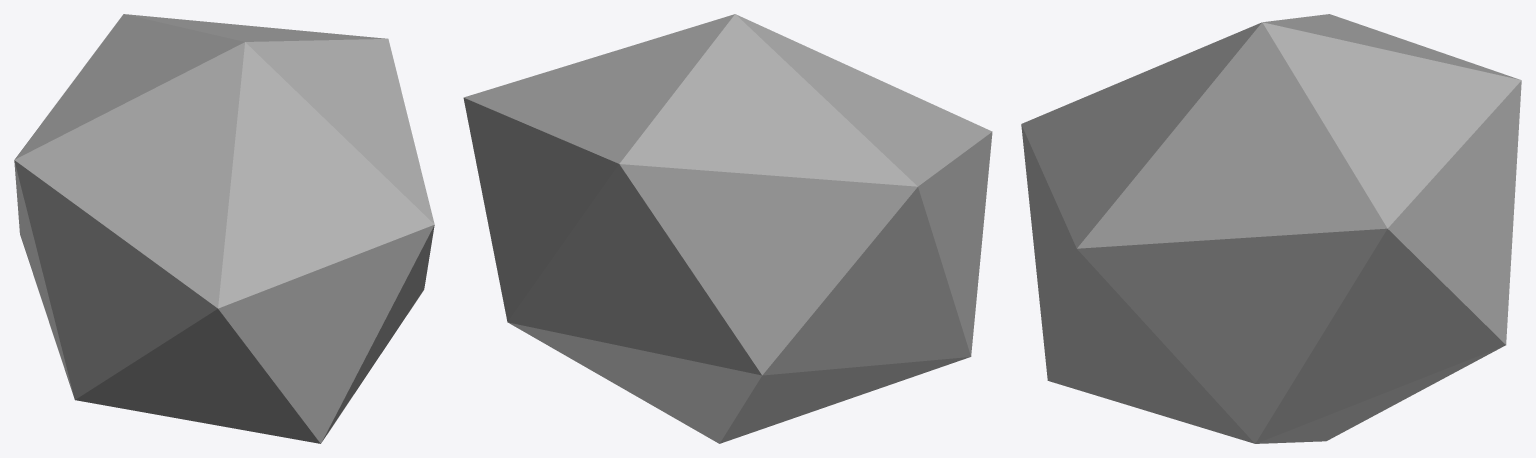
File: Roca_curvo1.fbx
3 renders of one model, left to right at view 1: azimuth 30°, elevation 25°; view 2: azimuth 150°, elevation 25°; view 3: azimuth 270°, elevation 25°, orthographic. The views are drawn at different scales.
Visible parts, largest first — view 1: Roca_curvo1; view 2: Roca_curvo1; view 3: Roca_curvo1.
Part boxes in pixels (left/top/right/bottom): Roca_curvo1: left=14, top=14, right=434, bottom=443; Roca_curvo1: left=463, top=14, right=992, bottom=443; Roca_curvo1: left=1021, top=14, right=1521, bottom=443.
Size of the model in its own units: 11.03 by 9.97 by 10.6.
